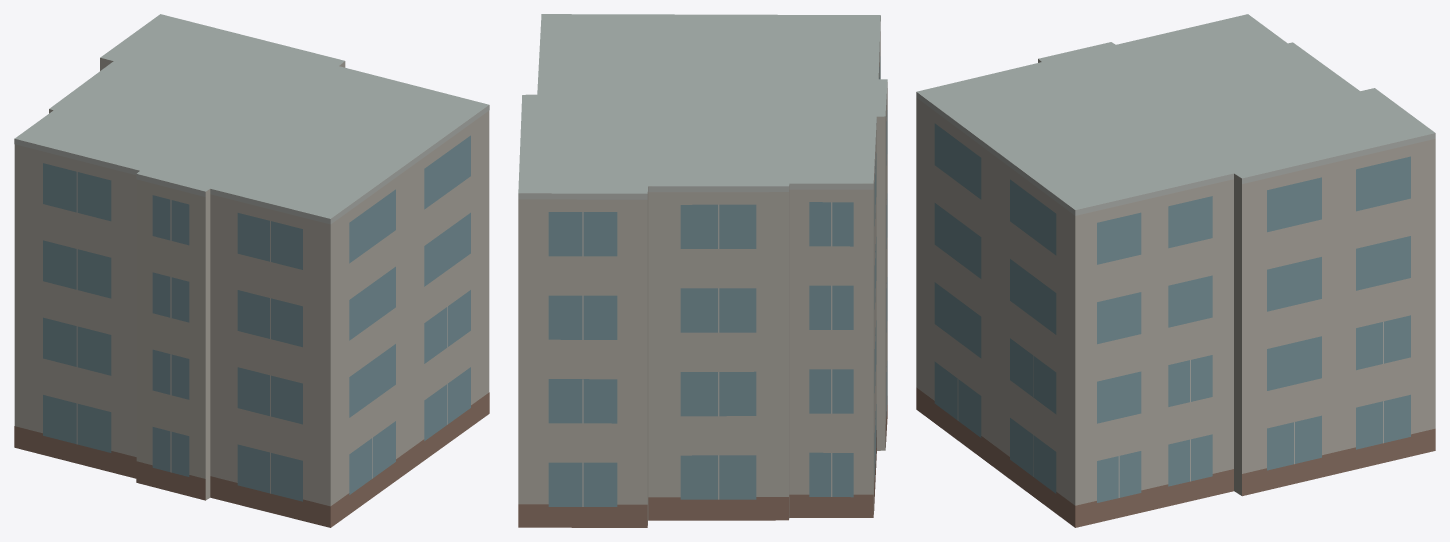
The model's file is survey-upis-33018242.glb.
3 renders of one model, left to right at view 1: azimuth 30°, elevation 25°; view 2: azimuth 150°, elevation 25°; view 3: azimuth 270°, elevation 25°, orthographic. The views are drawn at different scales.
Parts seen in each view (by area): view 1: survey-upis-33018242.tmp; view 2: survey-upis-33018242.tmp; view 3: survey-upis-33018242.tmp.
Part boxes in pixels (<box>): survey-upis-33018242.tmp: <box>14,14,489,527</box>; survey-upis-33018242.tmp: <box>518,14,887,527</box>; survey-upis-33018242.tmp: <box>916,14,1435,527</box>.
Bounding box in the file's own units: 18.09 × 13.65 × 20.24.
